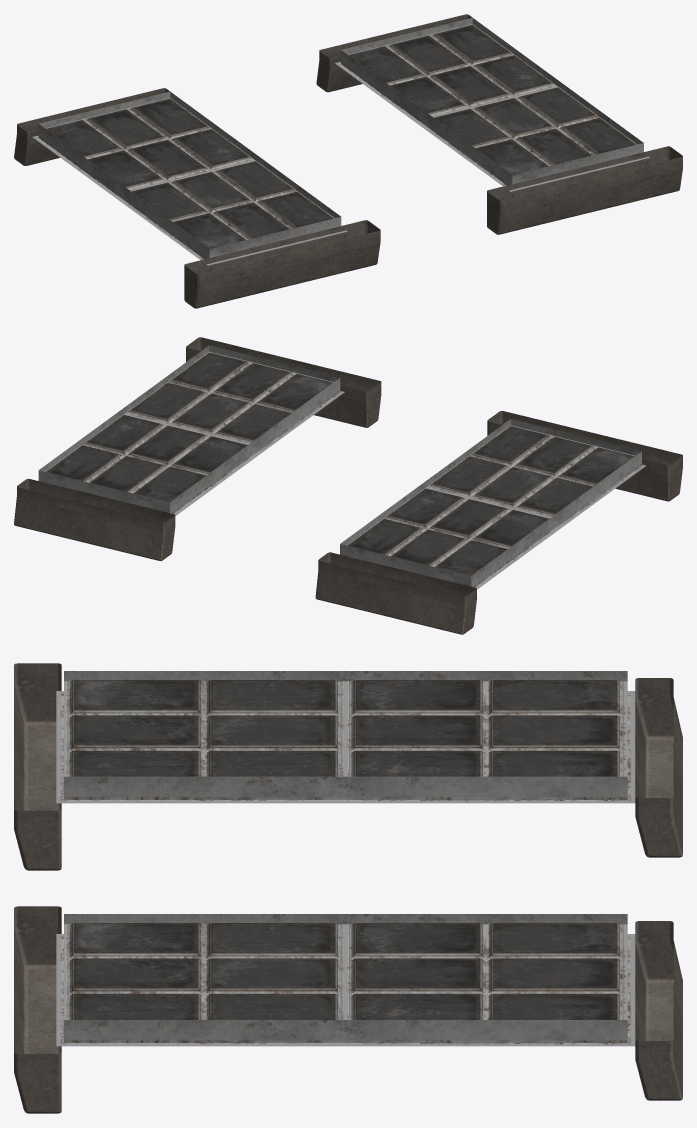
The model's file is window_centered_double_01.gltf.
3 views of the same model, one above another, from view 1: azimuth 30°, elevation 25°; view 2: azimuth 150°, elevation 25°; view 3: azimuth 270°, elevation 25° (orthographic). The views are drawn at different scales.
Parts seen in each view (by area): view 1: window_centered_double_01; view 2: window_centered_double_01; view 3: window_centered_double_01.
Boxes of the visible parts, x1,y1,x2,y2 form: window_centered_double_01: [14, 14, 682, 308]; window_centered_double_01: [14, 337, 682, 634]; window_centered_double_01: [14, 663, 682, 1113].
Size of the model in its own units: 2.41 by 0.2167 by 1.74.
Materials: 2 (2 with a texture image).
